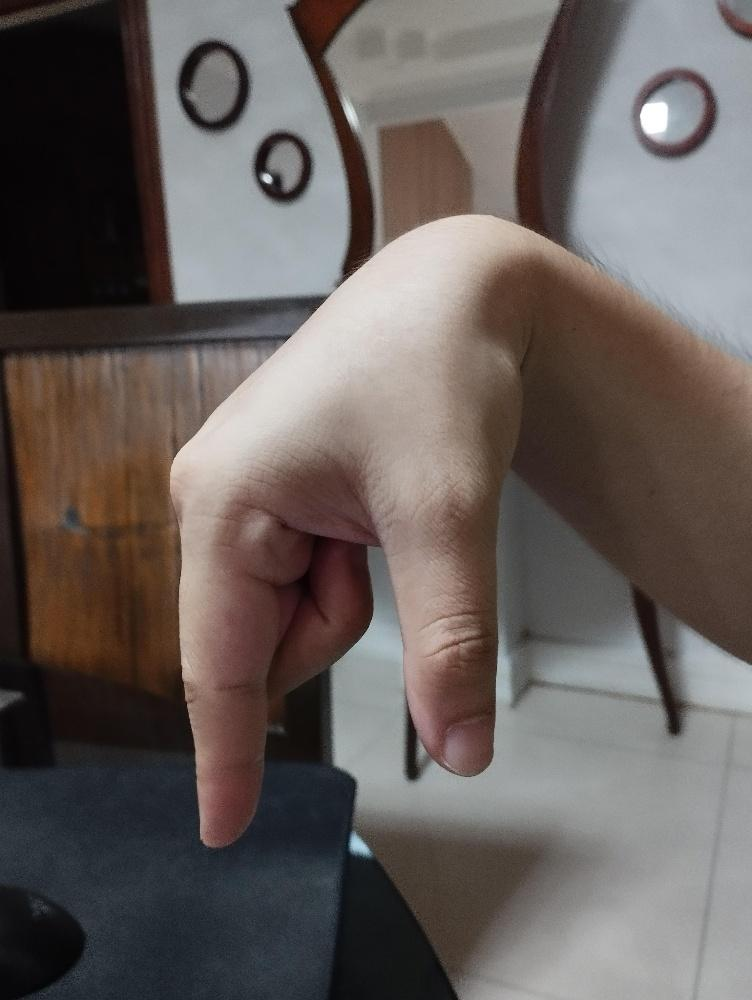q: (165, 210, 532, 849)
